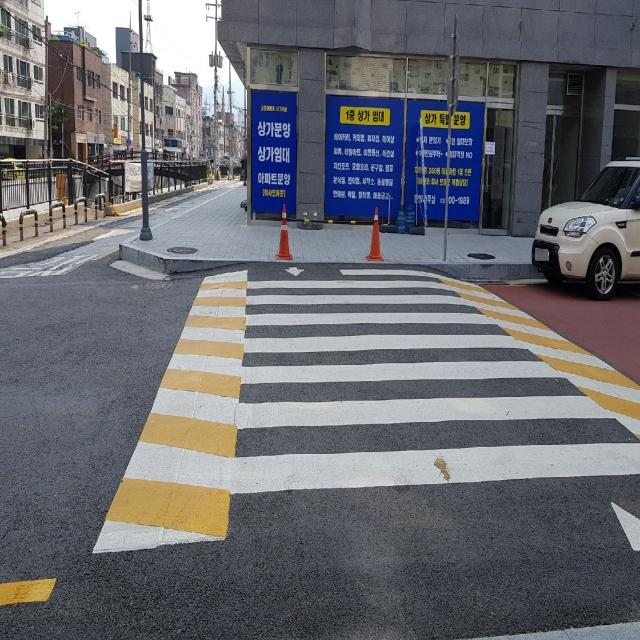횡단보도: (230, 267, 640, 550)
